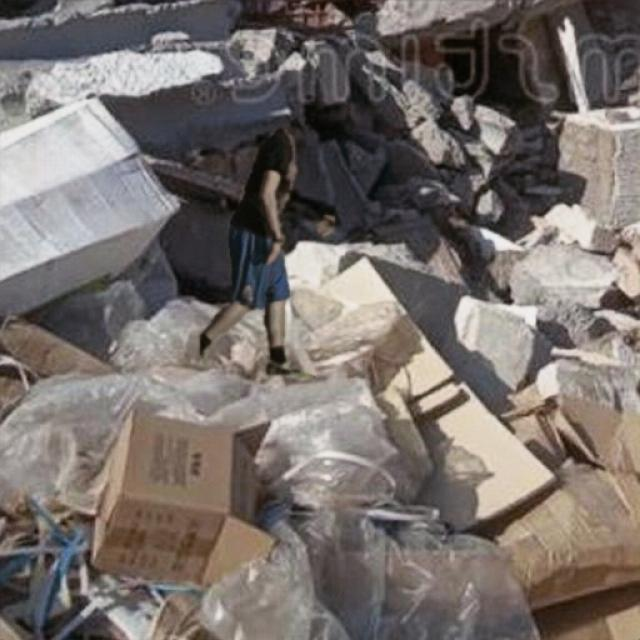Person in Rubble: (200, 128, 334, 376)
